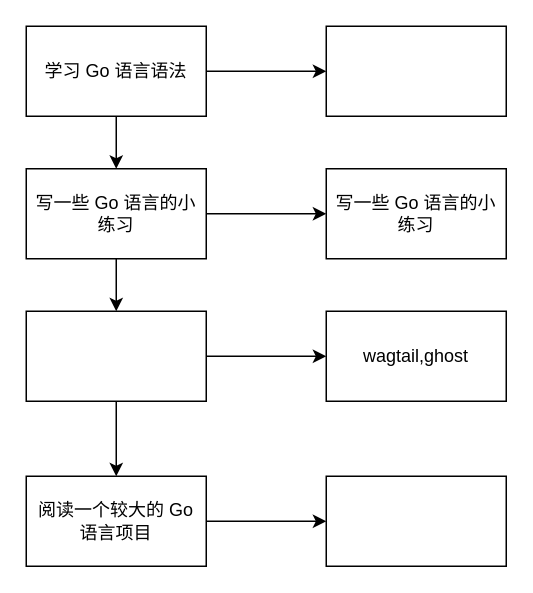
Image size: 533x593. Some labels were removed from this diagram. Here are the shapes that lost their labels. From the top down, the centre of each, then its label:
At point (415, 70): "书，example，playground，golang 标准库".
At point (115, 355): "Go 改写一个其他语言项目".
At point (415, 520): "istio,k8s".
